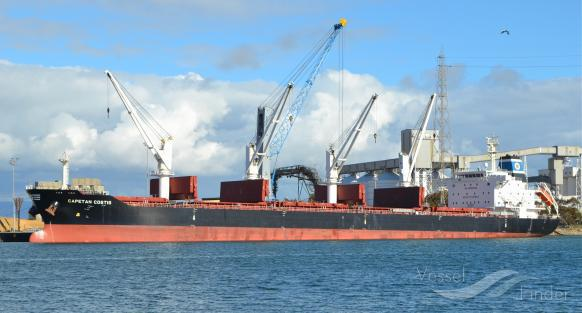OCR: (64, 195, 114, 211)
